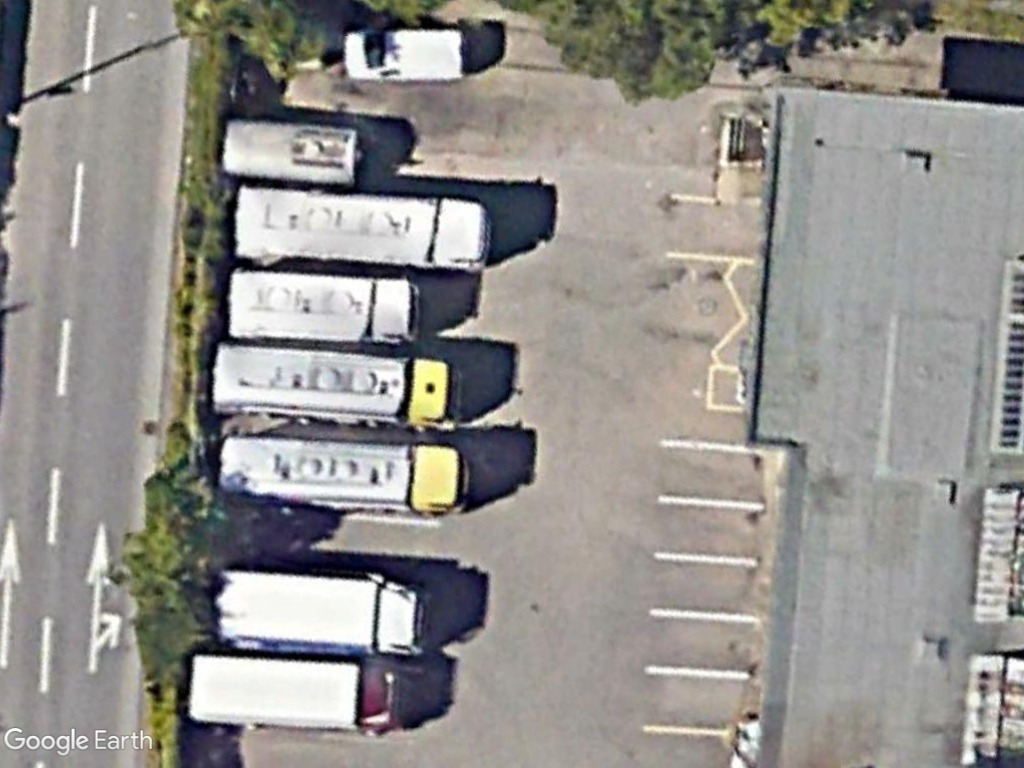truck: (211, 565, 427, 657), (184, 650, 406, 737)
van: (341, 24, 472, 87)
